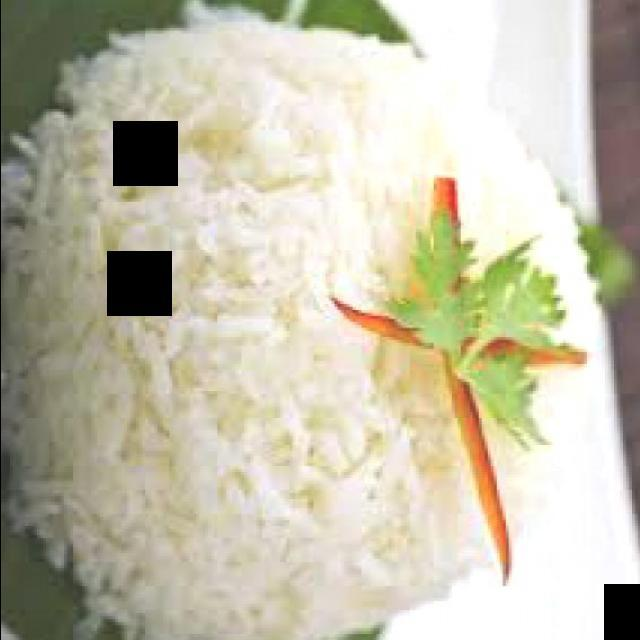rice: (0, 7, 588, 640)
